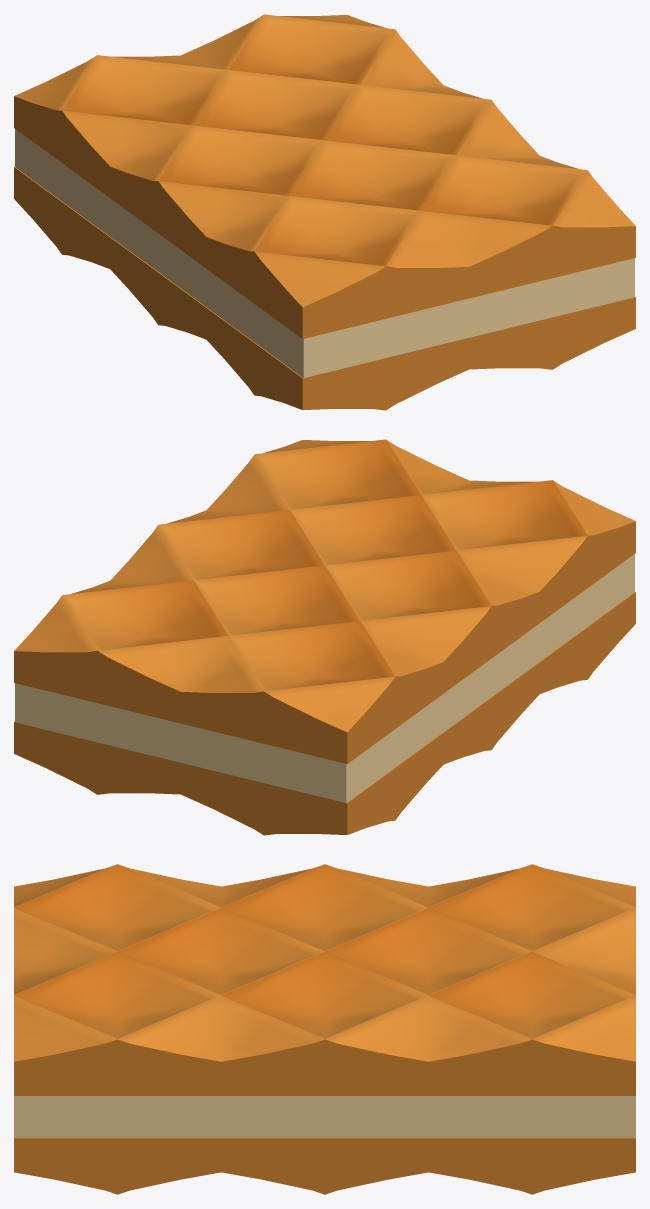
File: Wafer_01.fbx
3 renders of one model, top to bottom at view 1: azimuth 30°, elevation 25°; view 2: azimuth 150°, elevation 25°; view 3: azimuth 270°, elevation 25°, orthographic. The views are drawn at different scales.
Visible parts, largest first — view 1: Wafer_01; view 2: Wafer_01; view 3: Wafer_01.
Boxes of the visible parts, x1,y1,x2,y2 form: Wafer_01: (14,14,635,410); Wafer_01: (14,439,635,835); Wafer_01: (14,864,635,1194).
Size of the model in its own units: 267 by 110 by 400.
